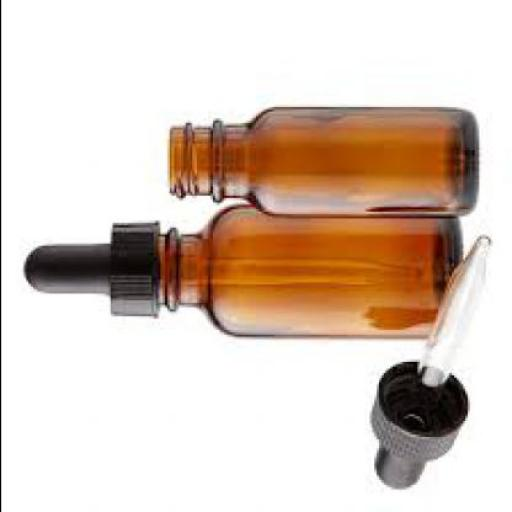glass: (154, 207, 458, 339), (164, 107, 476, 223), (412, 237, 486, 412)
plastic: (20, 225, 154, 319), (366, 364, 462, 494)
